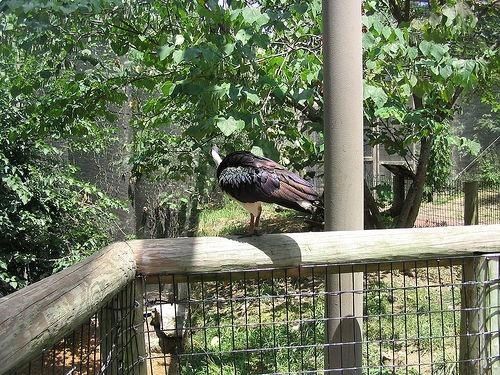bird: (213, 144, 319, 241)
